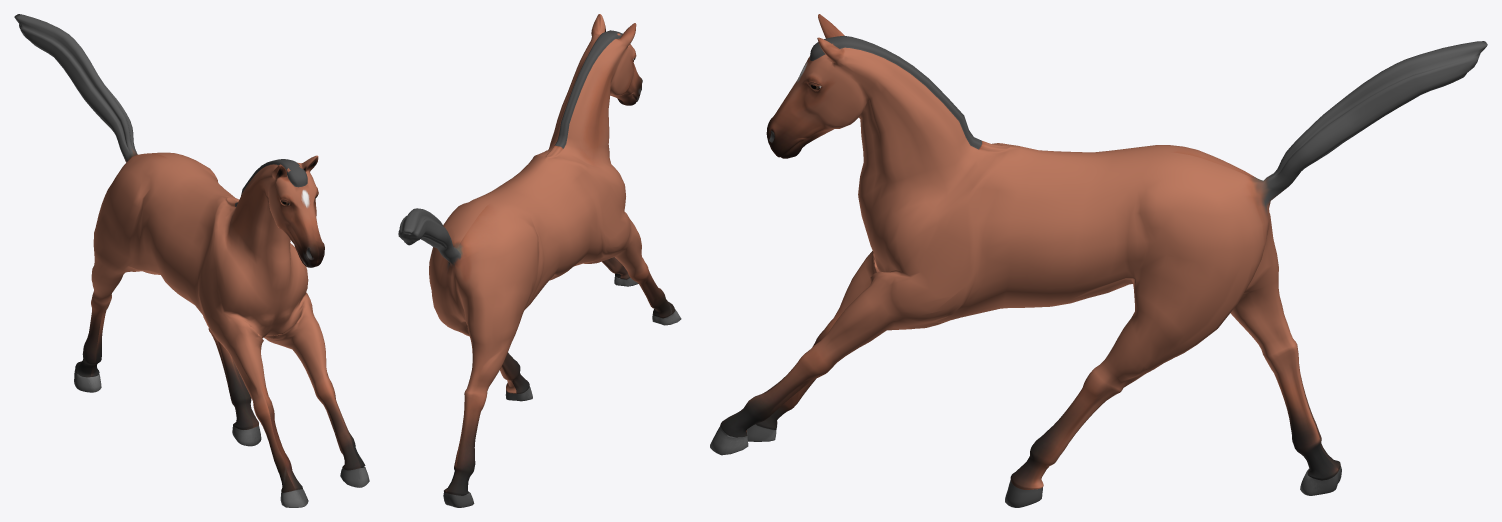
File: horse_obj_22.obj
3 renders of one model, left to right at view 1: azimuth 30°, elevation 25°; view 2: azimuth 150°, elevation 25°; view 3: azimuth 270°, elevation 25°, orthographic. The views are drawn at different scales.
Visible parts, largest first — view 1: Figure_1; view 2: Figure_1; view 3: Figure_1.
Part boxes in pixels (<box>): Figure_1: <box>14,14,369,507</box>; Figure_1: <box>398,14,681,507</box>; Figure_1: <box>710,14,1487,507</box>.
Size of the model in its own units: 0.2421 by 0.8612 by 1.26.
7 materials, 7 textured.
